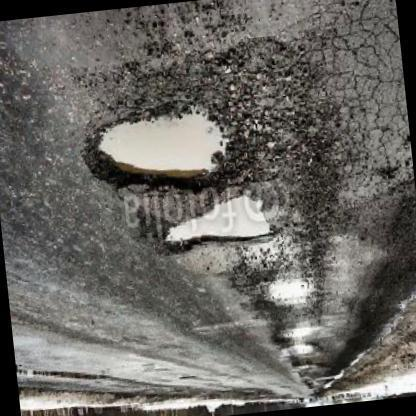pothole: (80, 98, 240, 190), (157, 190, 280, 252), (229, 255, 330, 308), (272, 321, 326, 349), (284, 342, 324, 366)
